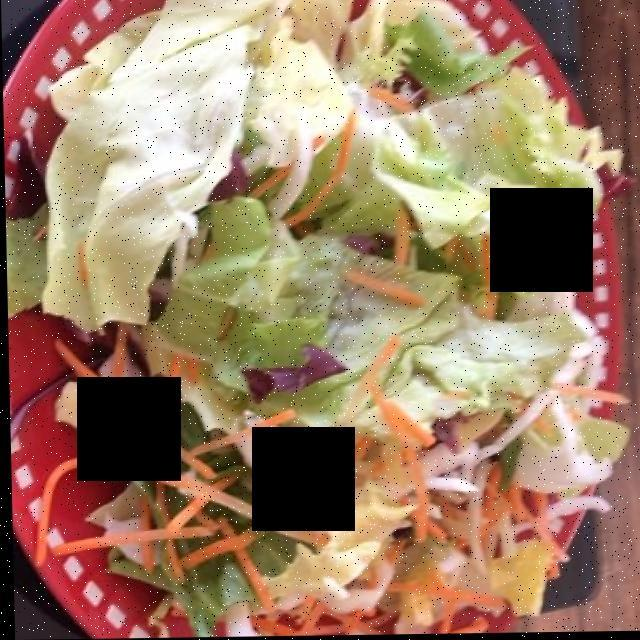carrot: (26, 335, 545, 605)
salad: (30, 8, 608, 623)
